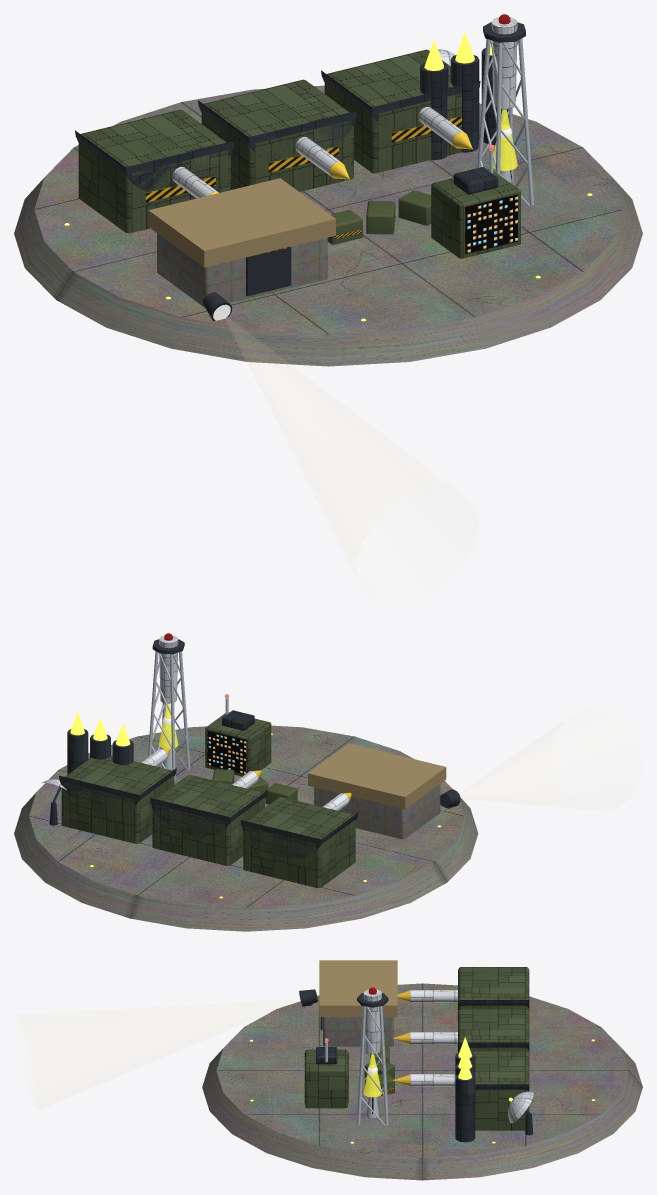
Rendered from ammo-T5.glb.
3 renders of one model, top to bottom at view 1: azimuth 30°, elevation 25°; view 2: azimuth 150°, elevation 25°; view 3: azimuth 270°, elevation 25°, orthographic. The views are drawn at different scales.
Visible parts, largest first — view 1: object 1, object 12, object 28, object 17, object 22, object 27, object 73, object 74, object 13, object 18, object 29, object 83 (+6 smaller); view 2: object 1, object 12, object 17, object 22, object 28, object 27, object 73, object 18, object 13, object 75, object 23, object 65 (+6 smaller); view 3: object 1, object 28, object 22, object 17, object 12, object 73, object 27, object 85, object 65, object 15, object 20, object 25 (+6 smaller).
Part boxes in pixels (box(x1,y1,x2,y2)): object 1: box(14, 85, 642, 366); object 12: box(78, 109, 230, 233); object 28: box(148, 178, 335, 267); object 17: box(201, 79, 353, 191); object 22: box(324, 49, 461, 173); object 27: box(157, 233, 327, 307); object 73: box(431, 169, 520, 258); object 74: box(465, 194, 517, 253); object 13: box(75, 130, 234, 191); object 18: box(198, 100, 357, 161); object 29: box(246, 247, 291, 296); object 83: box(450, 55, 479, 152); object 1: box(14, 725, 478, 931); object 12: box(243, 797, 355, 887); object 17: box(152, 775, 264, 865); object 22: box(61, 755, 174, 843); object 28: box(308, 743, 446, 809); object 27: box(314, 784, 440, 839); object 73: box(205, 712, 271, 776); object 18: box(150, 790, 267, 836); object 13: box(240, 812, 358, 858); object 75: box(207, 730, 246, 774); object 23: box(59, 768, 176, 813); object 65: box(159, 635, 178, 703); object 1: box(202, 983, 642, 1180); object 28: box(319, 960, 397, 1016); object 22: box(458, 1051, 529, 1130); object 17: box(458, 1009, 529, 1053); object 12: box(458, 967, 529, 1011); object 73: box(305, 1049, 347, 1108); object 27: box(323, 1017, 393, 1046); object 85: box(455, 1074, 475, 1142); object 65: box(363, 989, 381, 1054); object 15: box(410, 990, 457, 1002); object 20: box(410, 1032, 457, 1044); object 25: box(410, 1074, 455, 1086).
Size of the model in its own units: 6.2 by 3.61 by 8.85.
Materials: 19 (7 with a texture image).
